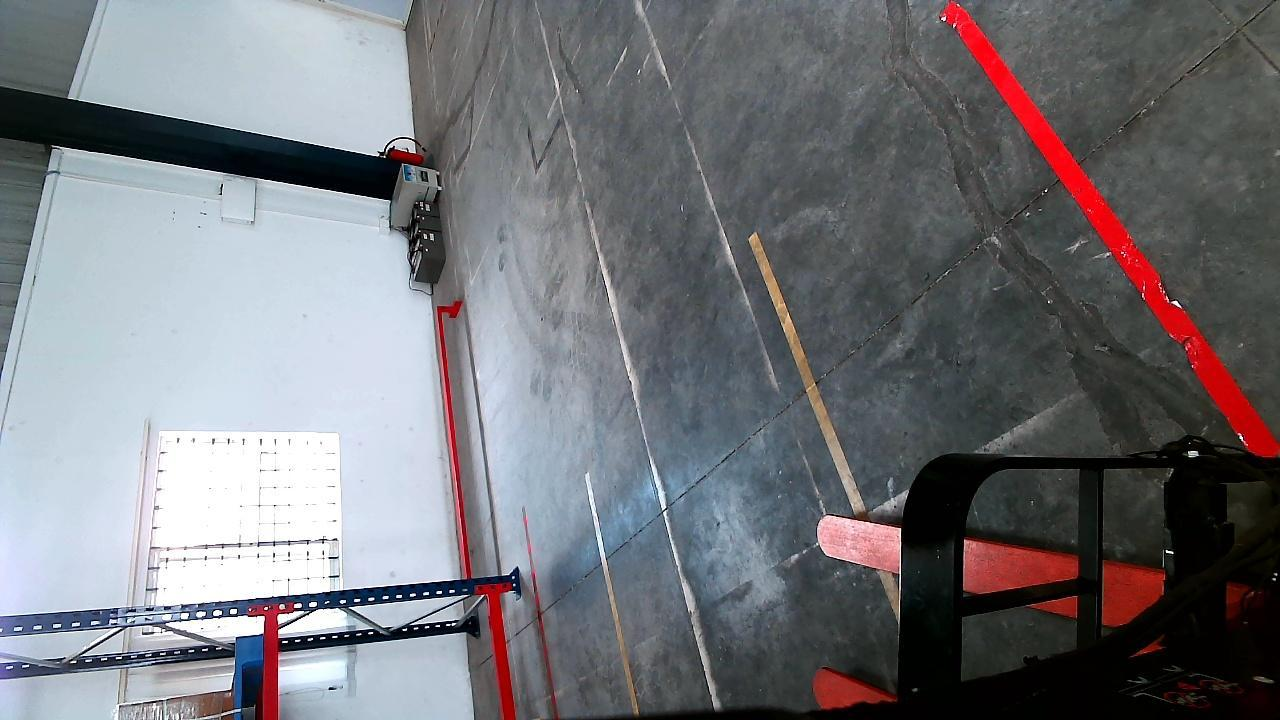red_line: (939, 0, 1278, 450), (520, 504, 558, 720)
yellow_line: (746, 233, 869, 515), (584, 470, 642, 717)
